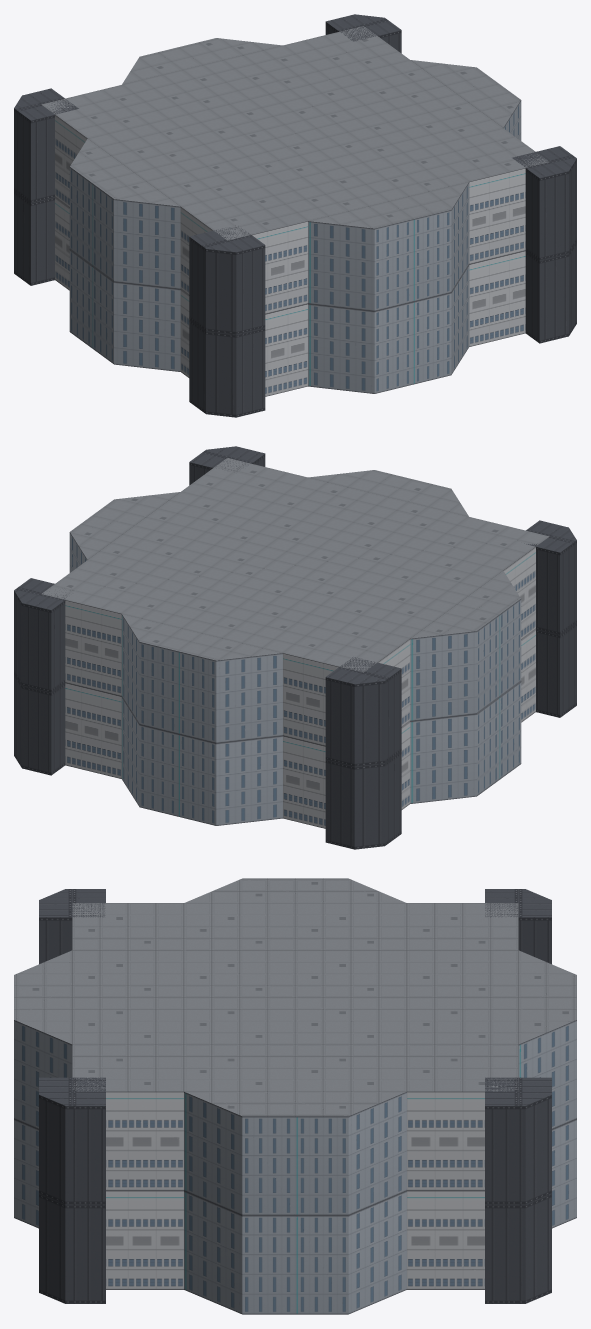
Rendered from BLD_BASE_W.fbx.
The picture shows the model from 3 angles, top to bottom: view 1: azimuth 30°, elevation 25°; view 2: azimuth 150°, elevation 25°; view 3: azimuth 270°, elevation 25°; orthographic projection. The views are drawn at different scales.
Visible parts, largest first — view 1: BLD_BASE_W; view 2: BLD_BASE_W; view 3: BLD_BASE_W.
Boxes of the visible parts, x1,y1,x2,y2 form: BLD_BASE_W: (14, 14, 576, 417); BLD_BASE_W: (14, 446, 576, 849); BLD_BASE_W: (14, 878, 576, 1314).
Size of the model in its own units: 126 by 49 by 126.
